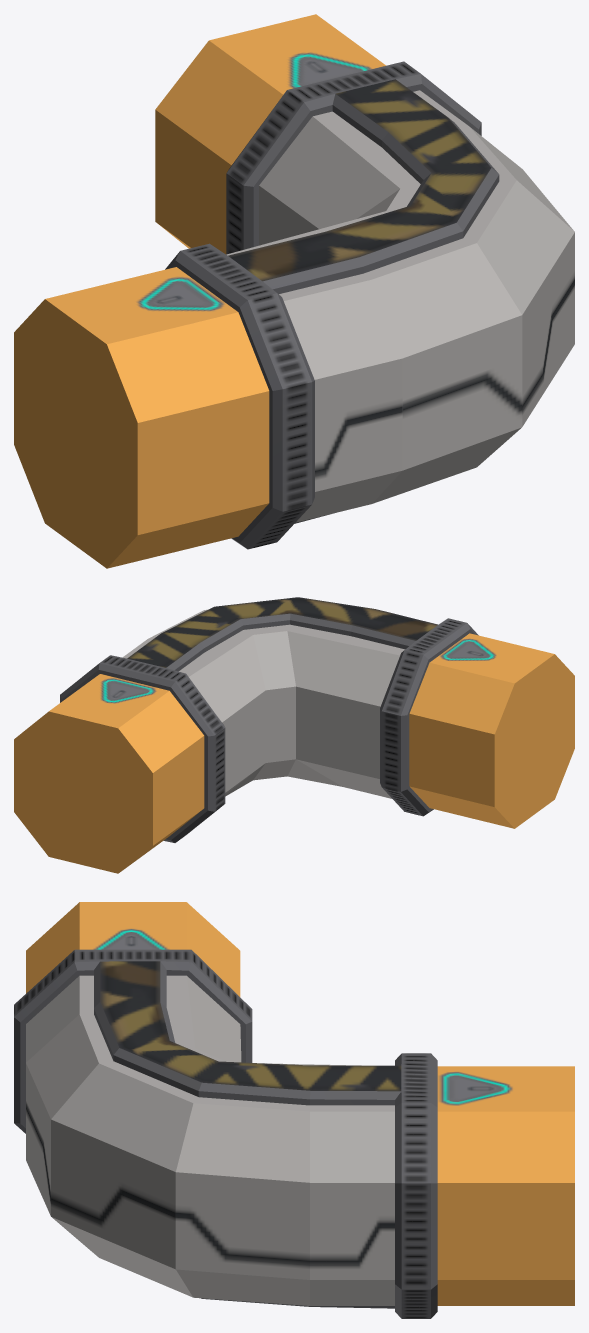
Rendered from SM_Bld_Pipe_Large_Bend_02.fbx.
The picture shows the model from 3 angles, top to bottom: view 1: azimuth 30°, elevation 25°; view 2: azimuth 150°, elevation 25°; view 3: azimuth 270°, elevation 25°; orthographic projection. The views are drawn at different scales.
Parts seen in each view (by area): view 1: SM_Bld_Pipe_Large_Bend_02; view 2: SM_Bld_Pipe_Large_Bend_02; view 3: SM_Bld_Pipe_Large_Bend_02.
Part boxes in pixels (left/top/right/bottom): SM_Bld_Pipe_Large_Bend_02: left=14, top=14, right=574, bottom=568; SM_Bld_Pipe_Large_Bend_02: left=14, top=597, right=574, bottom=873; SM_Bld_Pipe_Large_Bend_02: left=14, top=902, right=574, bottom=1318.
Size of the model in its own units: 317 by 137 by 317.
